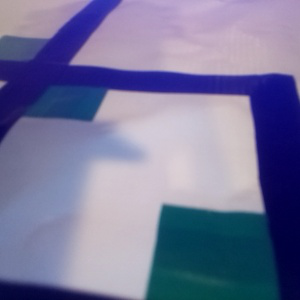bottom_right: (9, 67, 109, 121)
top_left: (146, 204, 300, 300), (1, 34, 68, 80)
